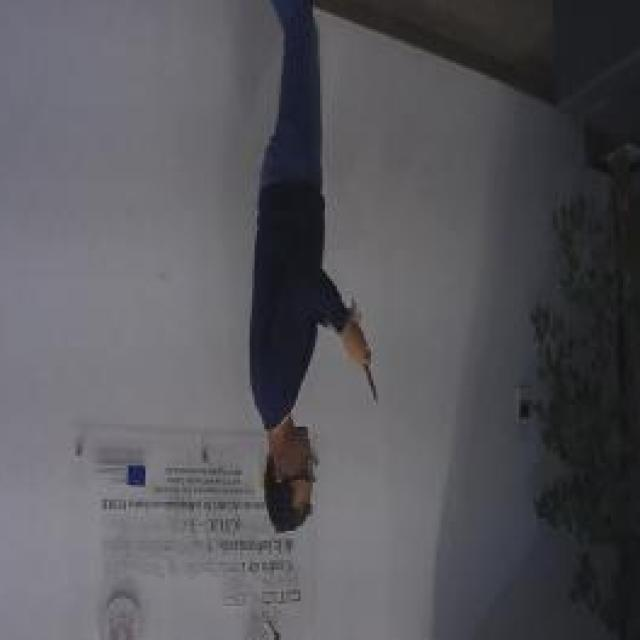knife: (355, 341, 383, 412)
